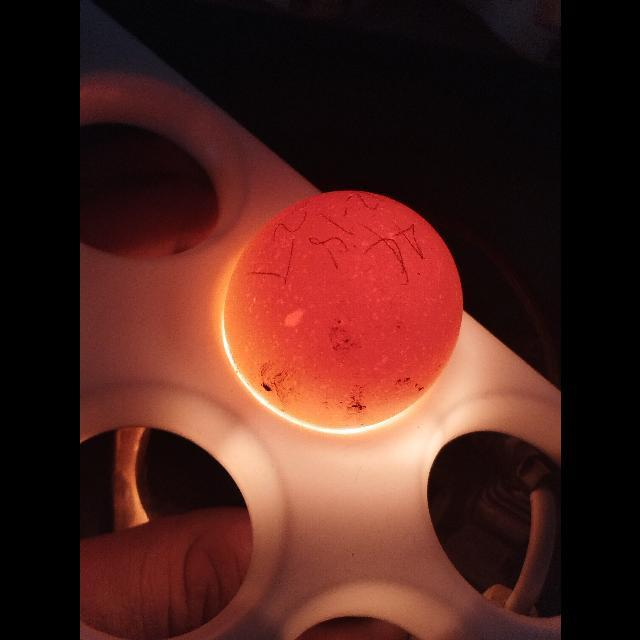Infertile: (218, 186, 468, 432)
